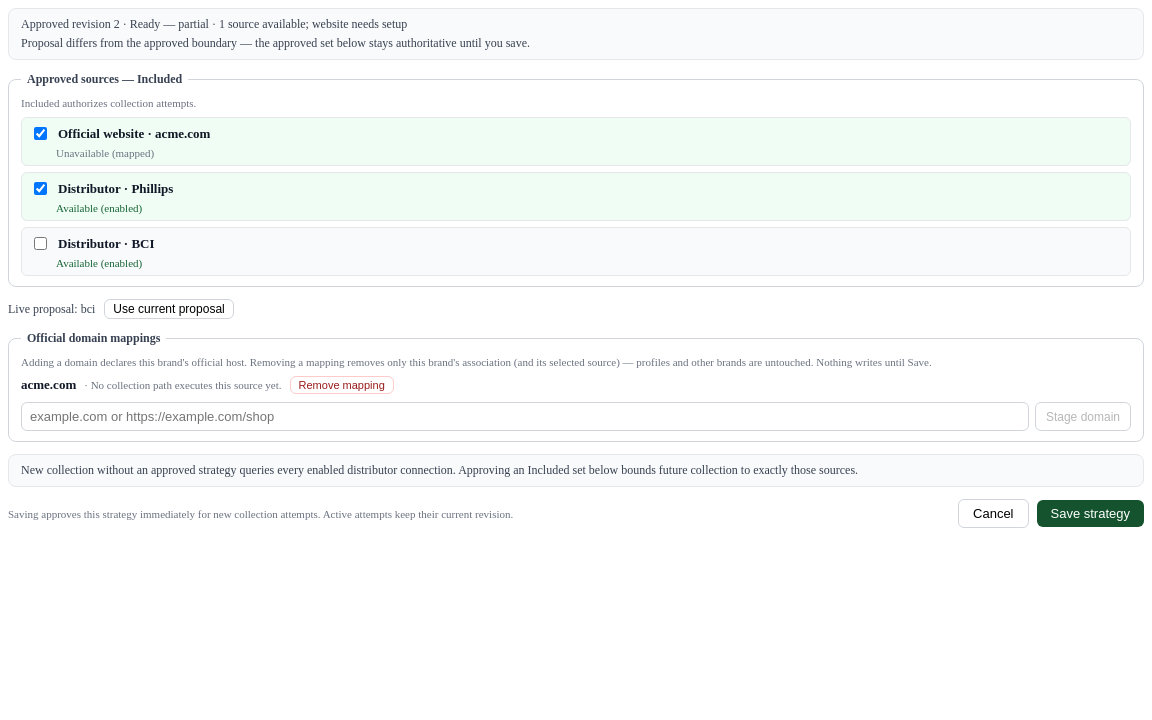
BrandStrategyBuilder (mounted) › stale_configuration shows the mapping-drift message and reload-discard resets the edit
Click the button "Use current proposal": (169, 309) [104, 299, 234, 319]
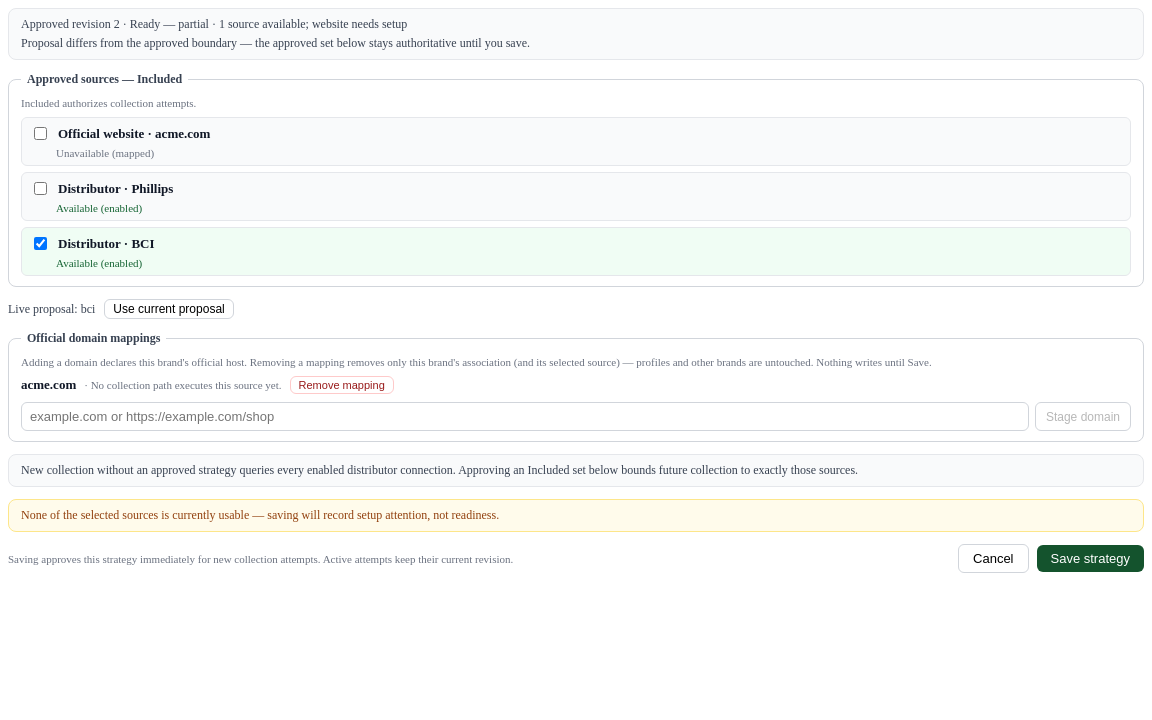
Click the button "Save strategy": (1090, 558) [1036, 545, 1144, 572]
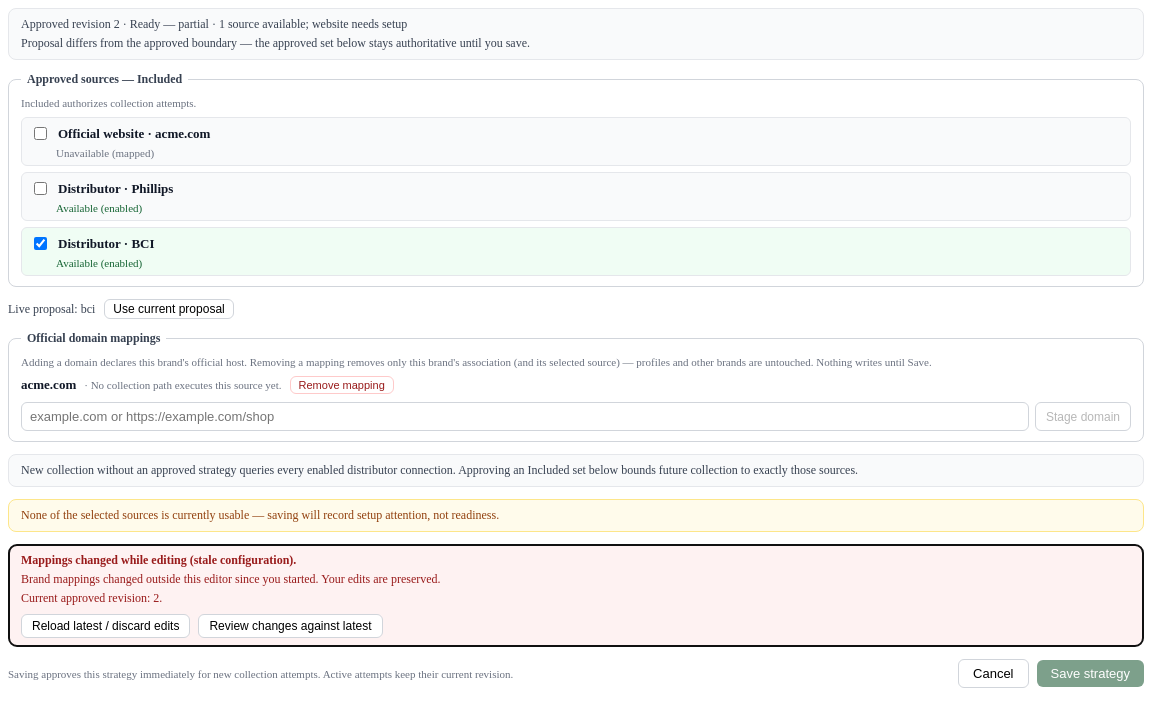
Expected: the text "Mappings changed" is shown, [21, 553, 296, 567]
Click the button "Reload latest / discard edits": (106, 626) [21, 614, 190, 638]
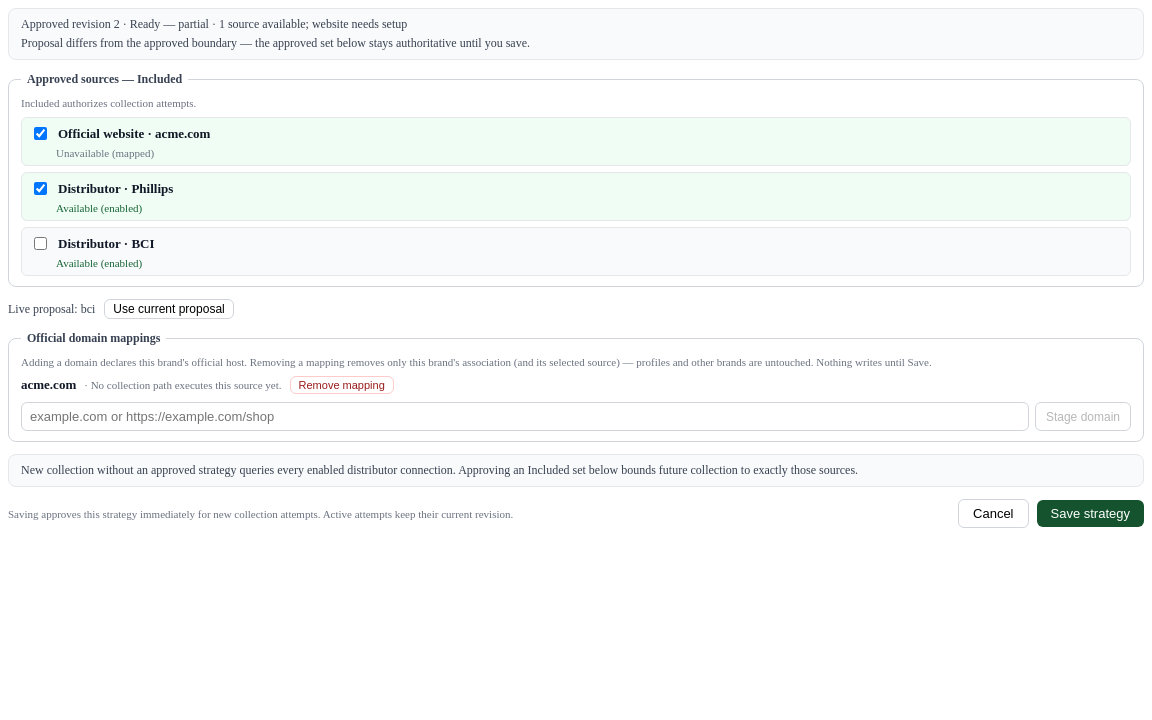
Expected: the text "Mappings changed" is gone
